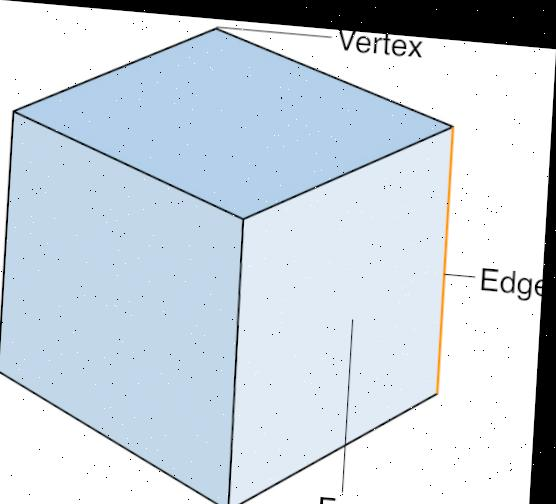cube: (0, 14, 459, 504)
